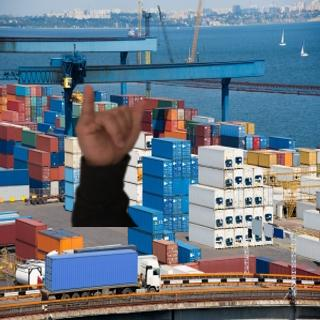HAVE: (67, 80, 153, 169)
